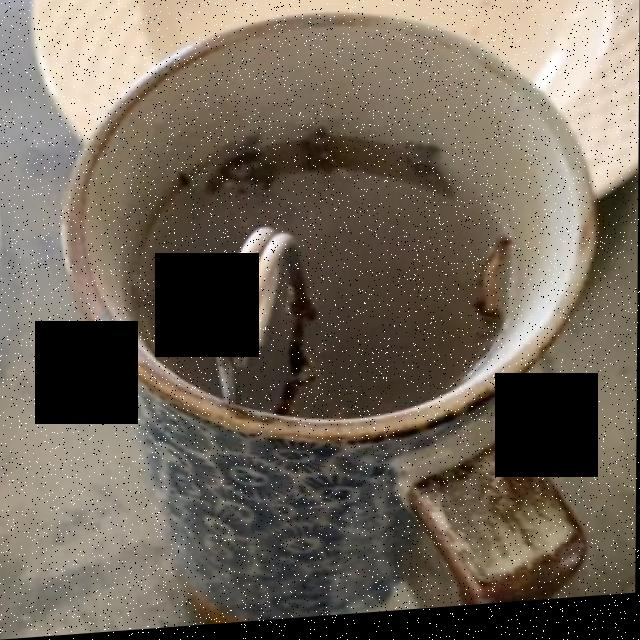tea-green: (144, 127, 516, 423)
